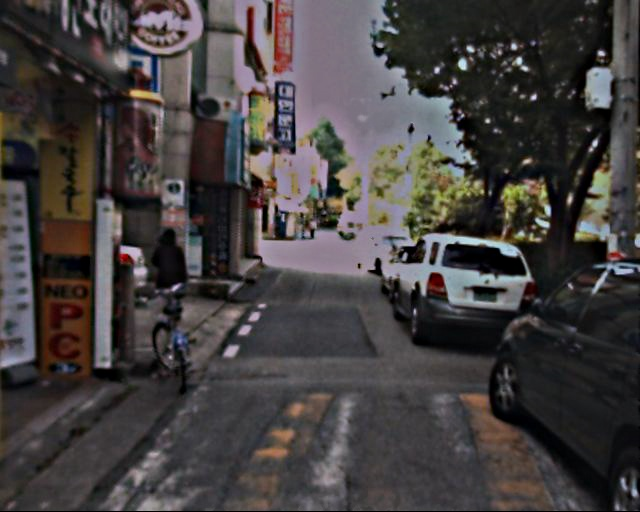person: (152, 223, 196, 323)
